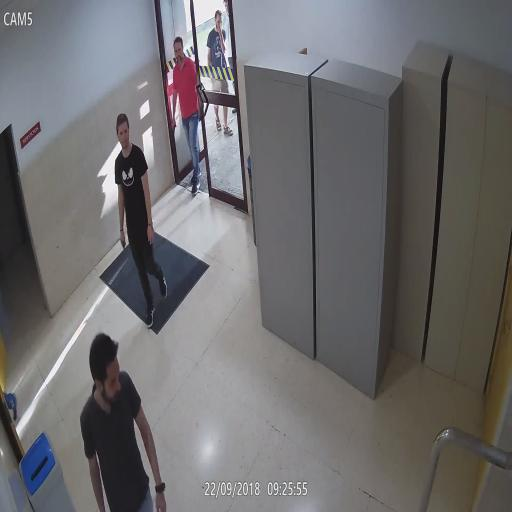Handgun: (119, 227, 127, 256), (170, 118, 178, 140)
